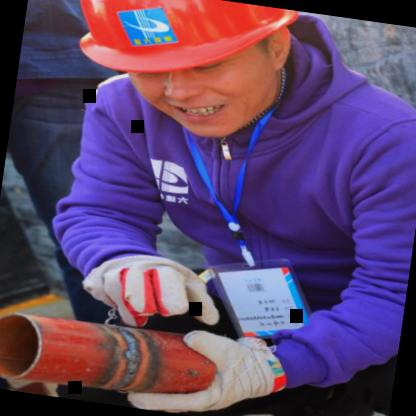helmet: (60, 0, 316, 144)
